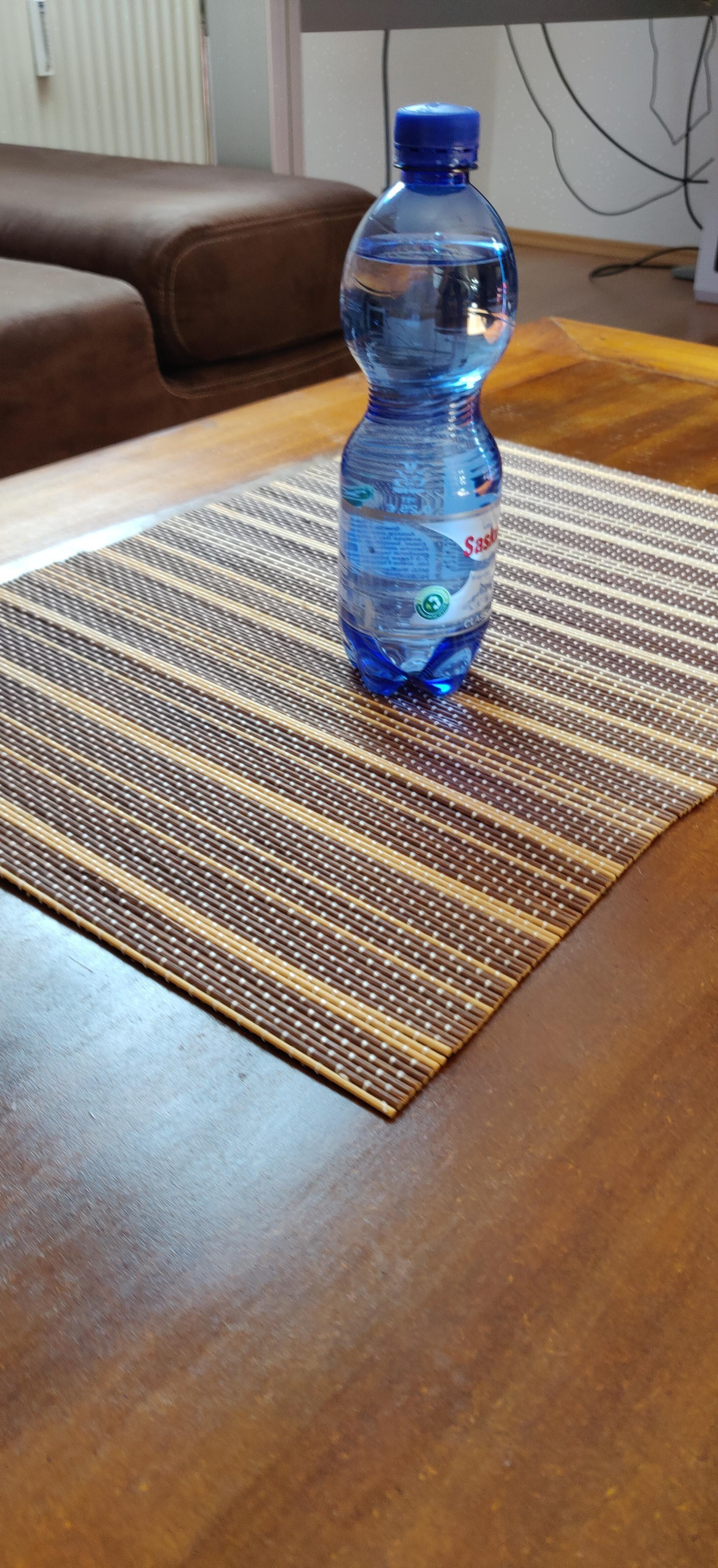bottle-plastic: (332, 99, 517, 701)
